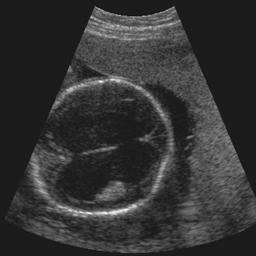abnormal: (31, 75, 179, 221)
